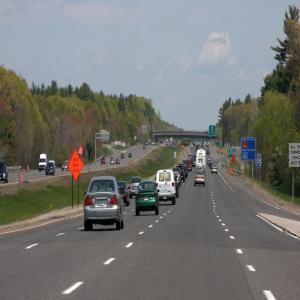Vehicle-registration-plate: (99, 199, 106, 208), (145, 197, 150, 202)
